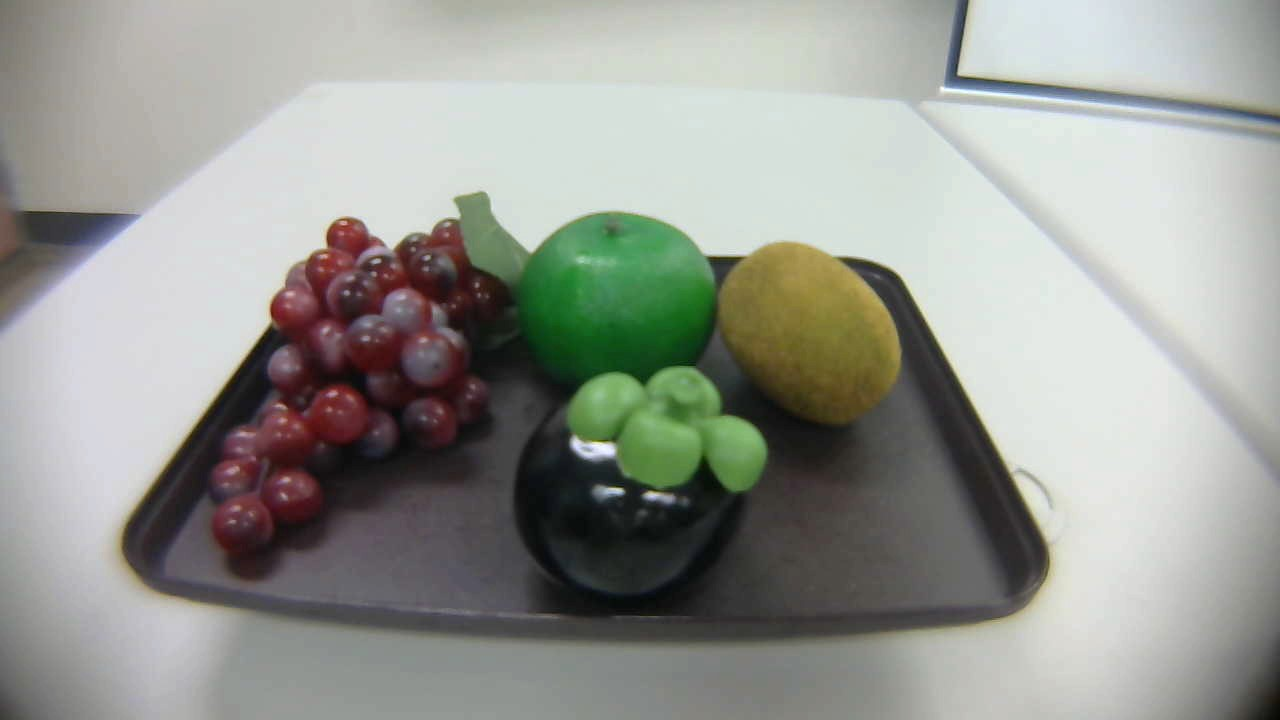grape: (197, 184, 530, 569)
green orange: (513, 196, 725, 399)
kiwi fruit: (717, 241, 903, 433)
mangosteen: (514, 363, 771, 604)
